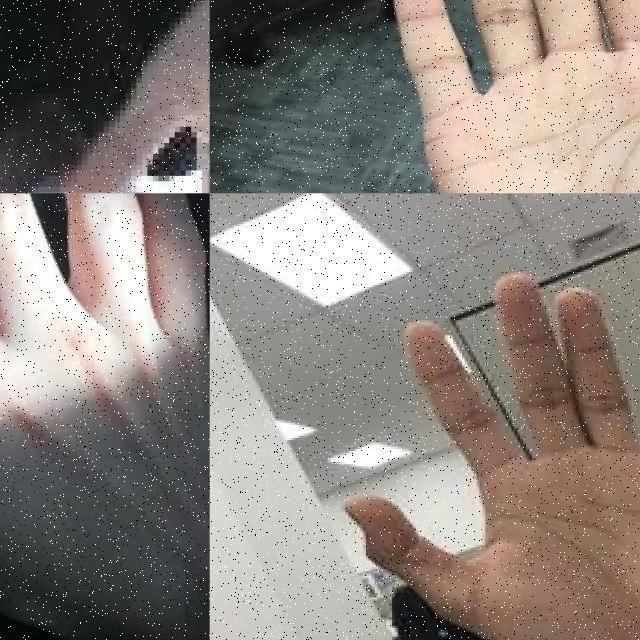hand: (343, 276, 640, 640), (0, 193, 210, 640), (390, 0, 640, 193), (1, 0, 210, 193)
